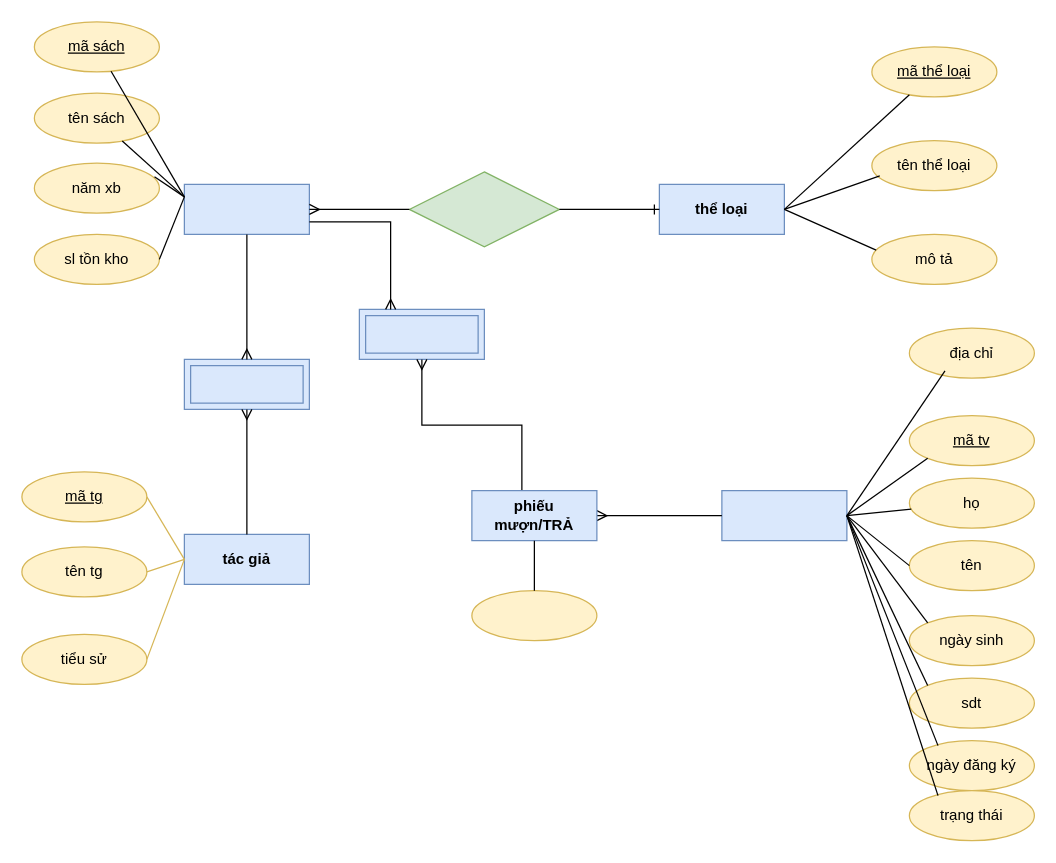
Some shapes in this 1056 by 863 pixel diagram are drawn without their labels. The shapes that lost their labels are listed below. From the top down, each one's centre as x and y in pixels, then its label:
At point (246, 208): "sách".
At point (483, 209): "thuộc".
At point (421, 333): "chi tiết mượn".
At point (246, 383): "tác giá_sách".
At point (784, 515): "thành viên".
At point (534, 615): "mã mượn".
